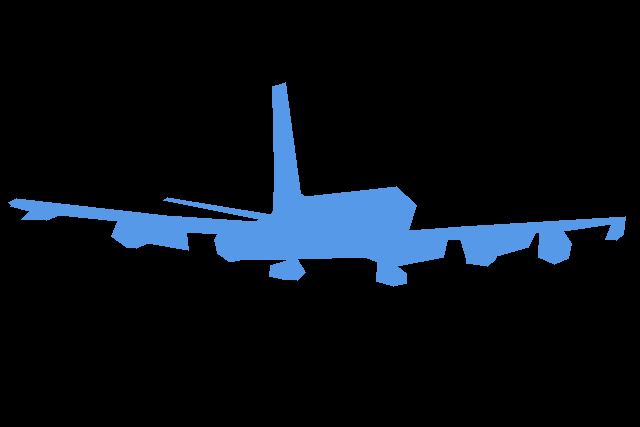Airplane: (8, 82, 626, 286)
